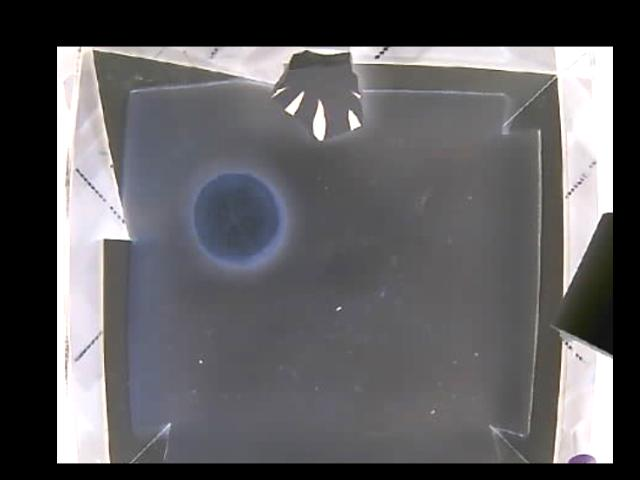China: (272, 50, 358, 142)
Mooli: (189, 170, 287, 269)
